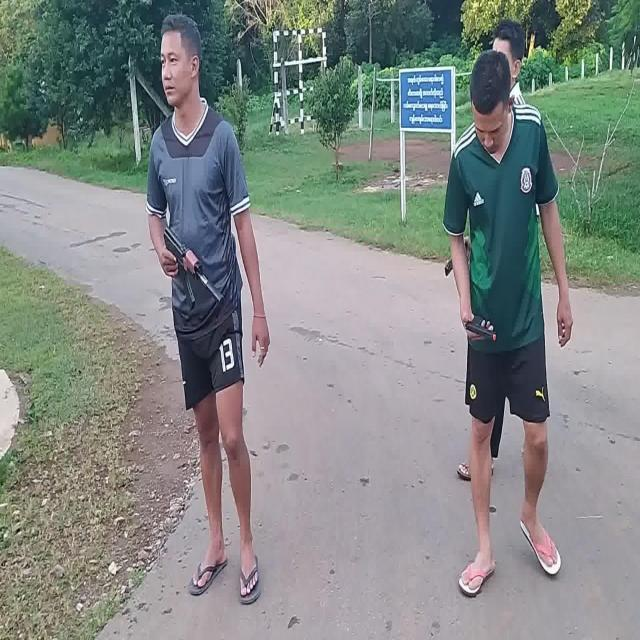gun: (164, 226, 224, 308), (467, 315, 497, 342)
